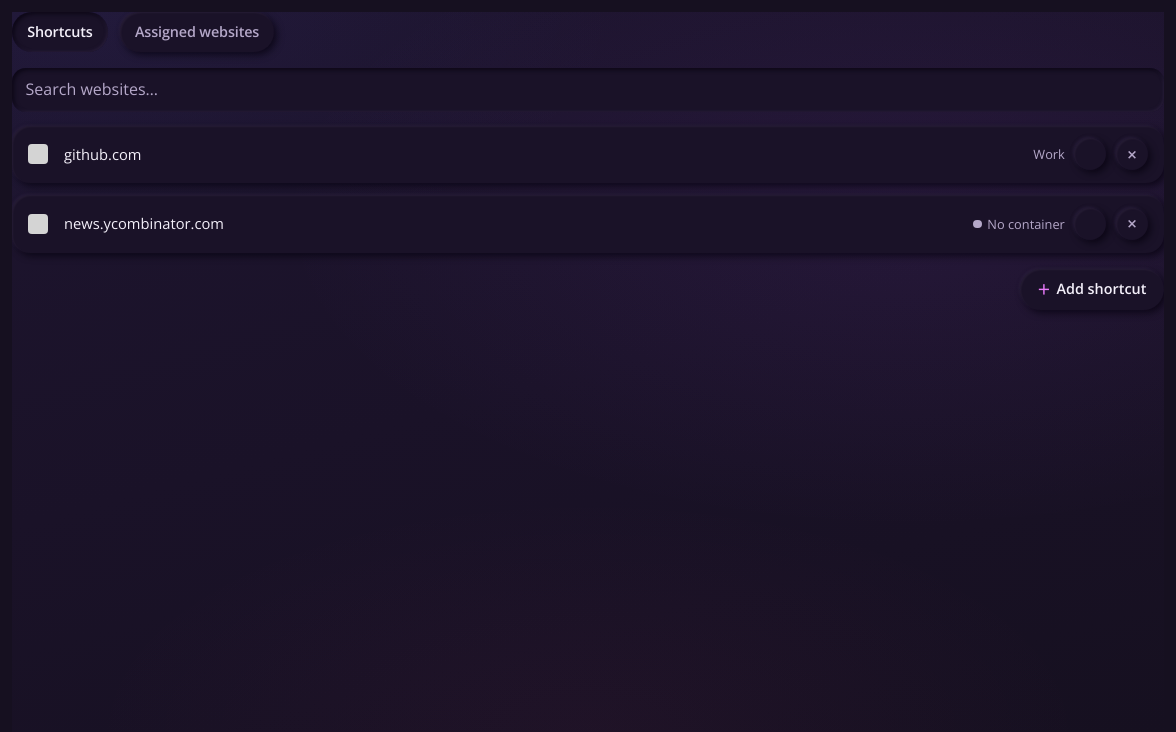
Scenario: SitesPanel › edits a shortcut in place through the prefilled form
Click the button named "Edit github.com". click: click(1090, 154)
box: [1074,138,1106,170]
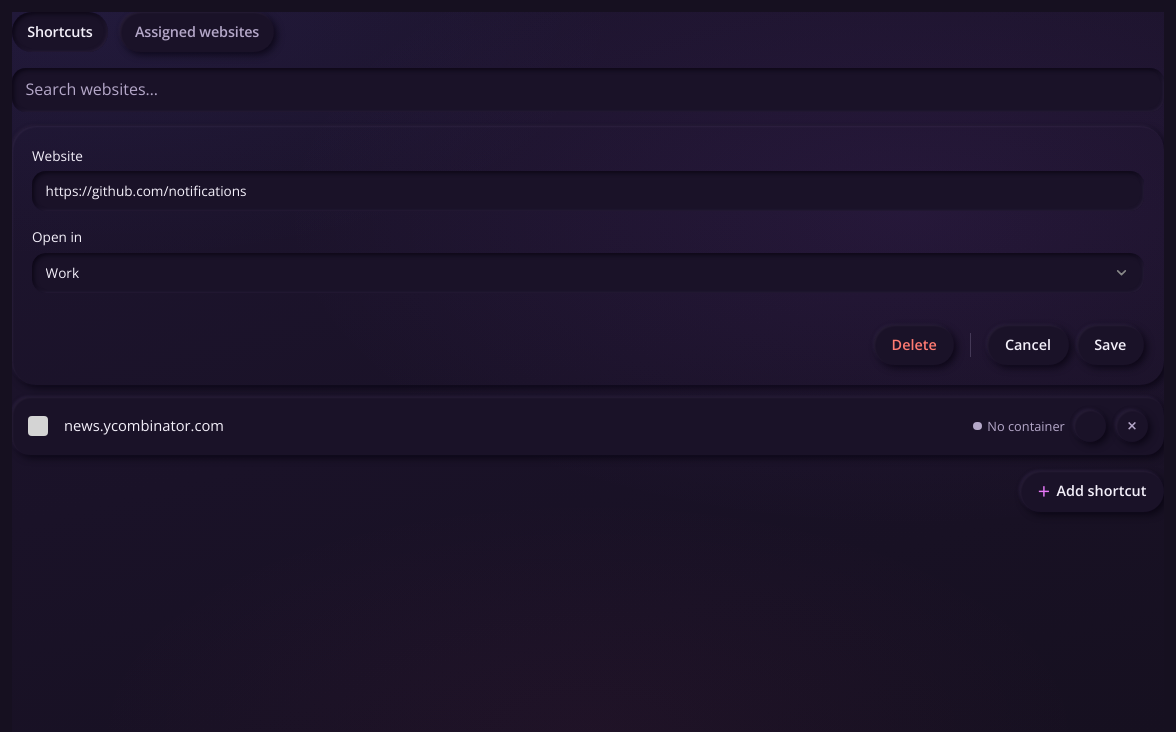
expect the field labelled "Website" holds "https://github.com/notifications": met
expect the dropdown labelled "Open in" shows "Work": met, box [32,253,1144,293]
Replace the text in the field labelled "Website" with "github.com/pulls". click: (588, 191)
box: [32,171,1144,211]
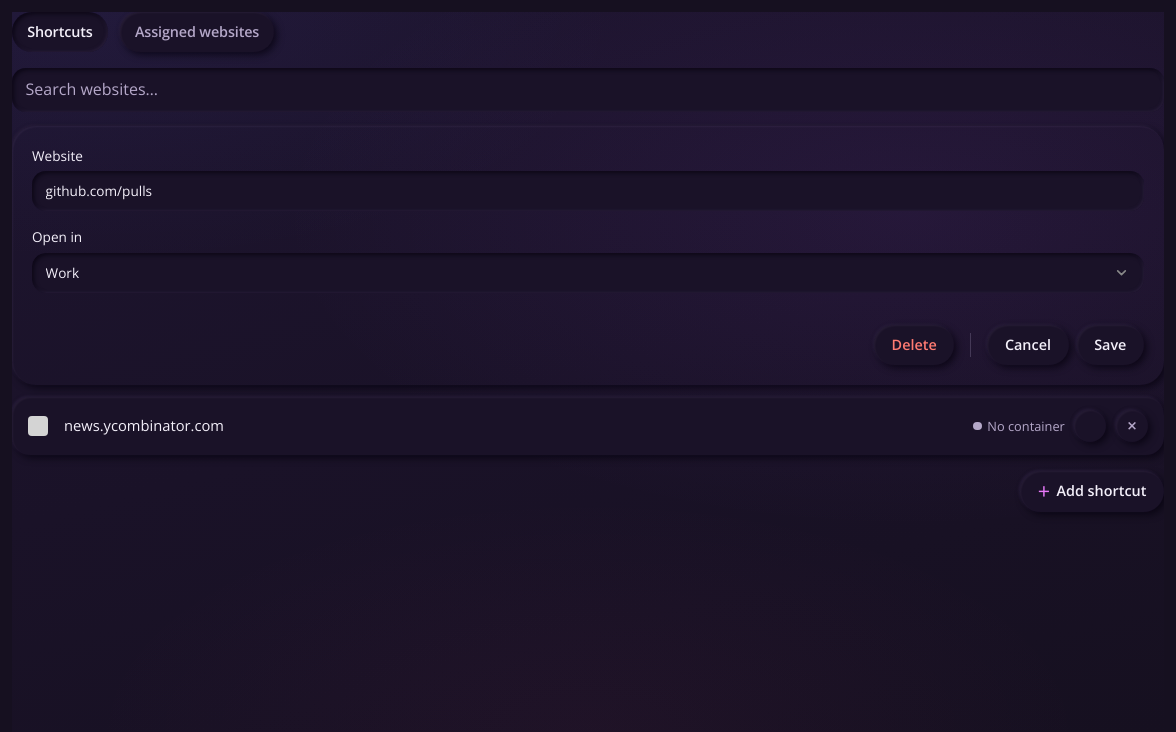
Submit the form named "Edit shortcut", box [12,126,1164,385]
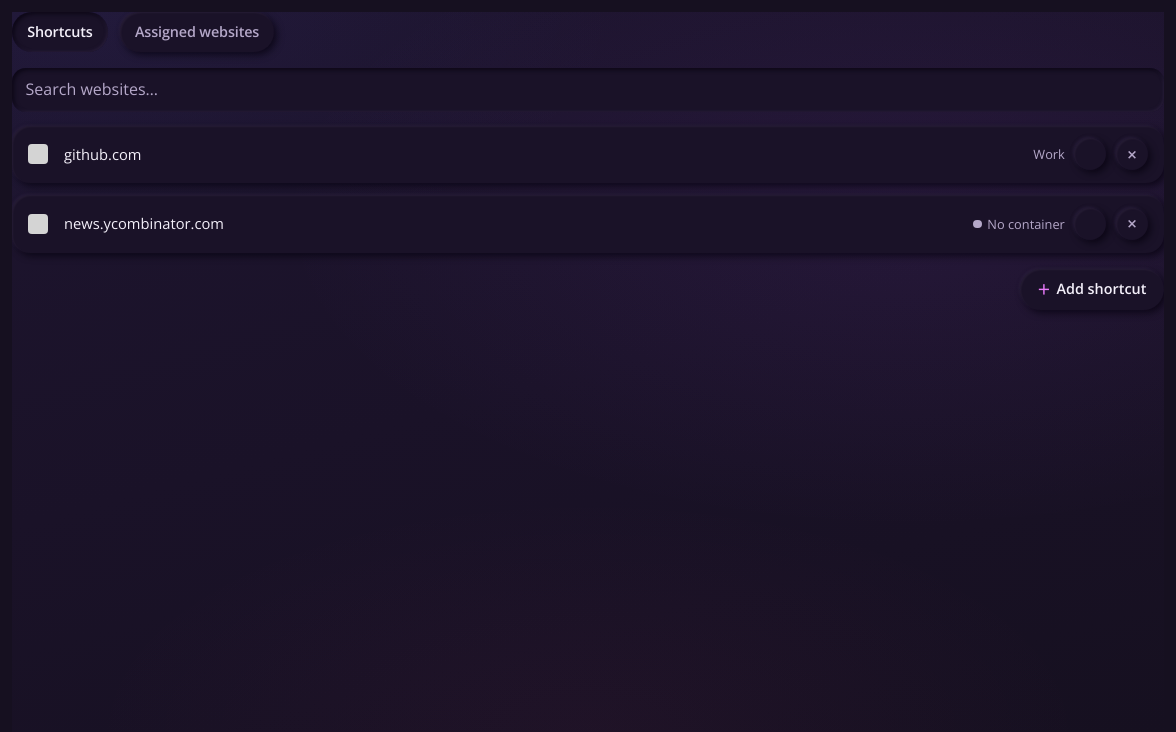
expect the form is gone: met
